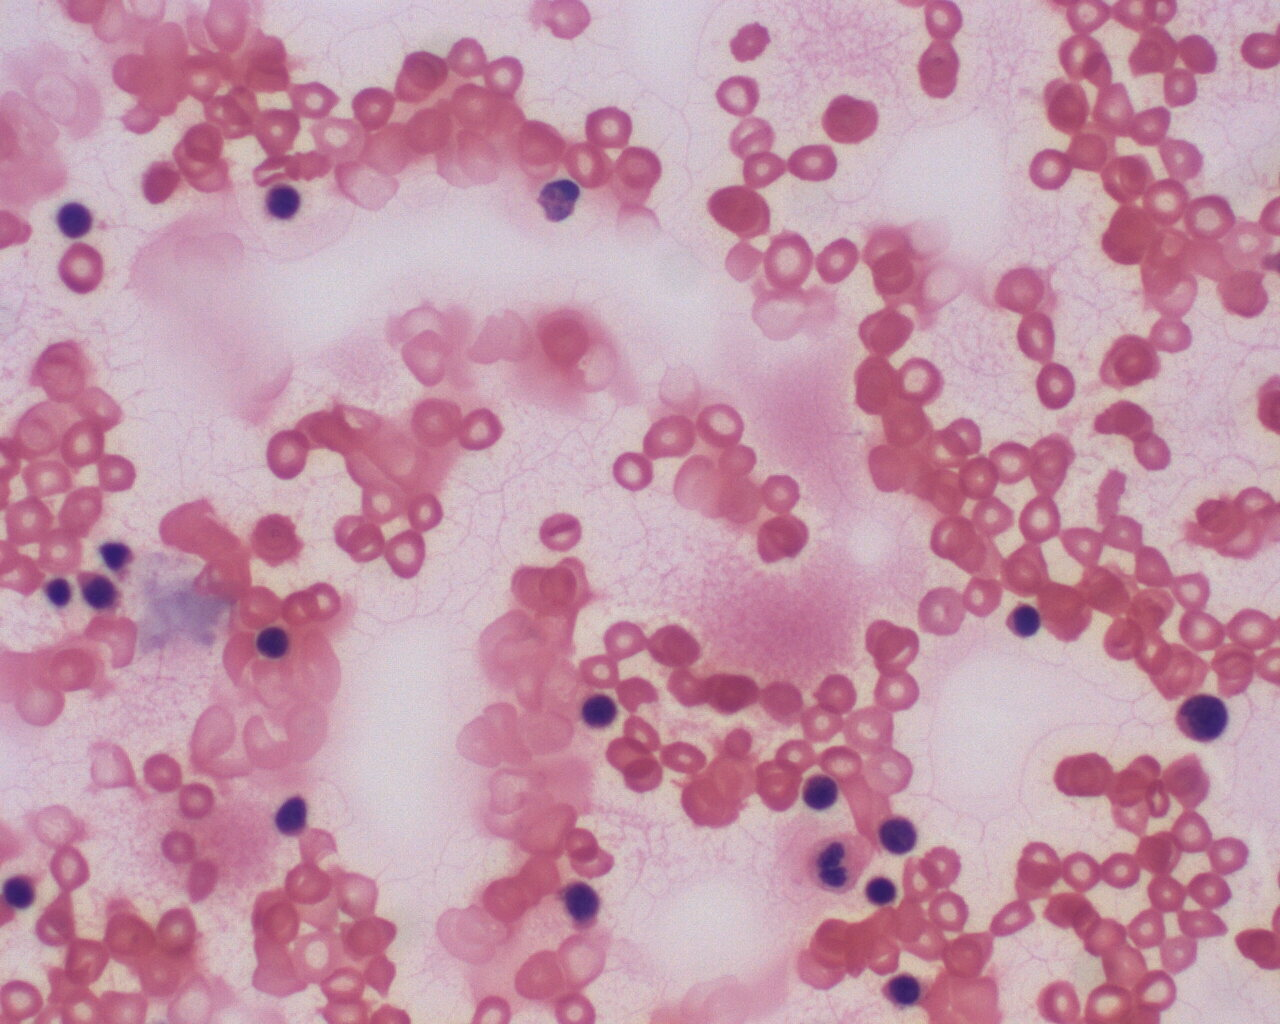ab: (877, 805, 928, 856)
lymph: (1165, 688, 1230, 746), (259, 174, 305, 226), (50, 194, 98, 242), (999, 599, 1049, 642), (576, 686, 621, 734), (865, 870, 905, 915), (251, 622, 290, 666)
